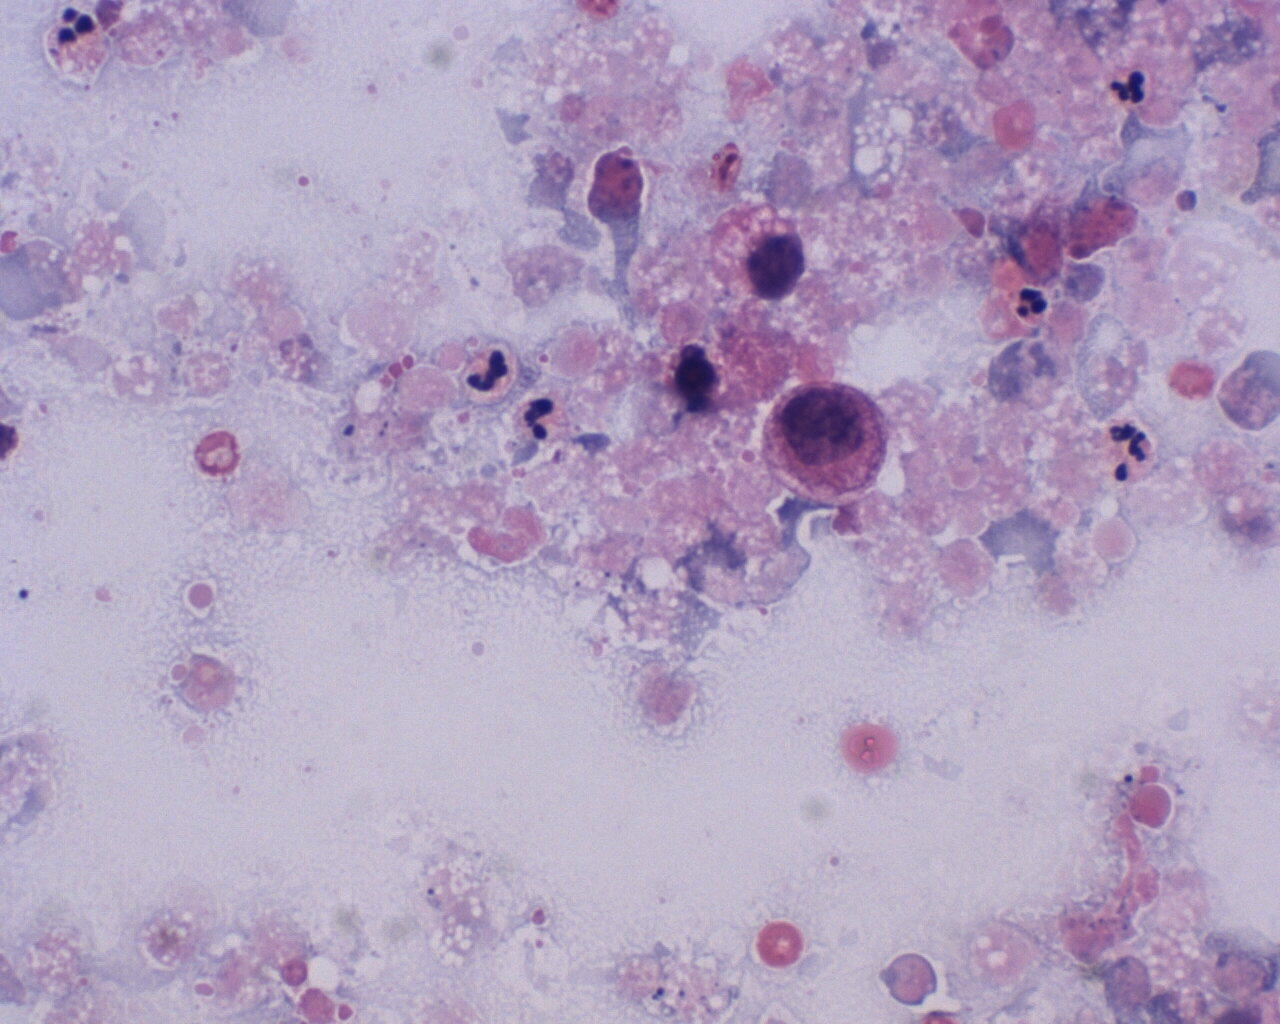ab: (762, 381, 895, 505), (707, 197, 810, 308)
neutro: (463, 331, 521, 403), (515, 389, 573, 448), (1107, 59, 1153, 113)
